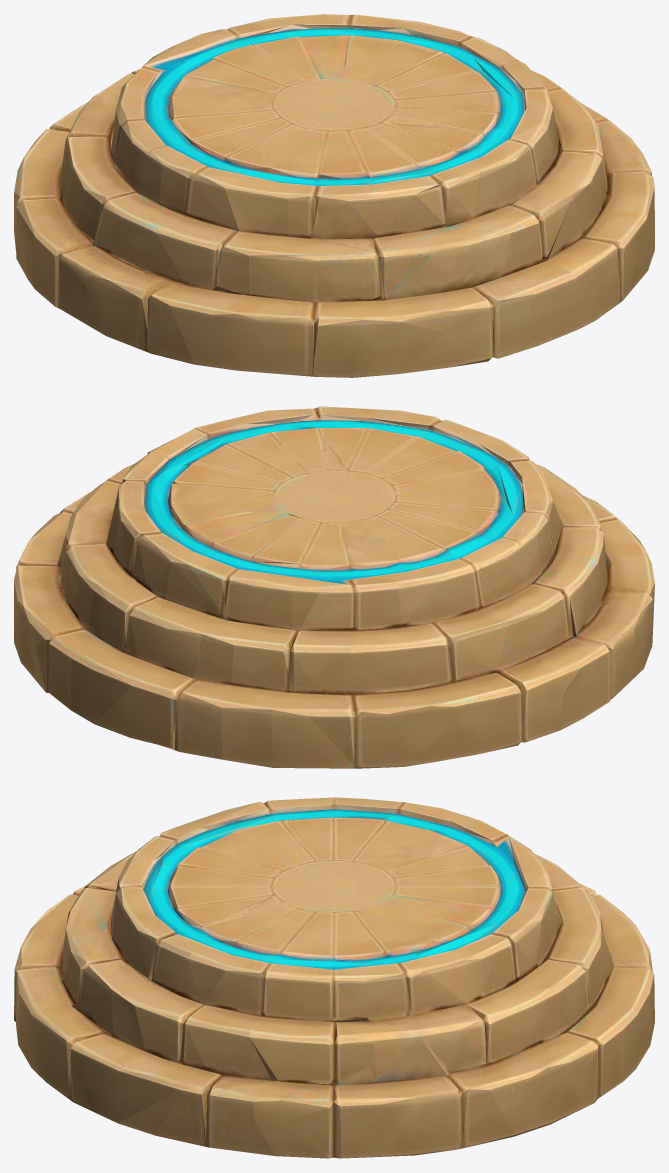
The model's file is pedestal-mestre.glb.
3 renders of one model, top to bottom at view 1: azimuth 30°, elevation 25°; view 2: azimuth 150°, elevation 25°; view 3: azimuth 270°, elevation 25°, orthographic.
Visible parts, largest first — view 1: Mesh_0; view 2: Mesh_0; view 3: Mesh_0.
Part boxes in pixels (x1,y1,x2,y2): Mesh_0: (14,14,654,377); Mesh_0: (14,406,654,768); Mesh_0: (14,797,654,1158).
Size of the model in its own units: 1.9 by 0.4565 by 1.9.
Materials: 1 (1 with a texture image).
